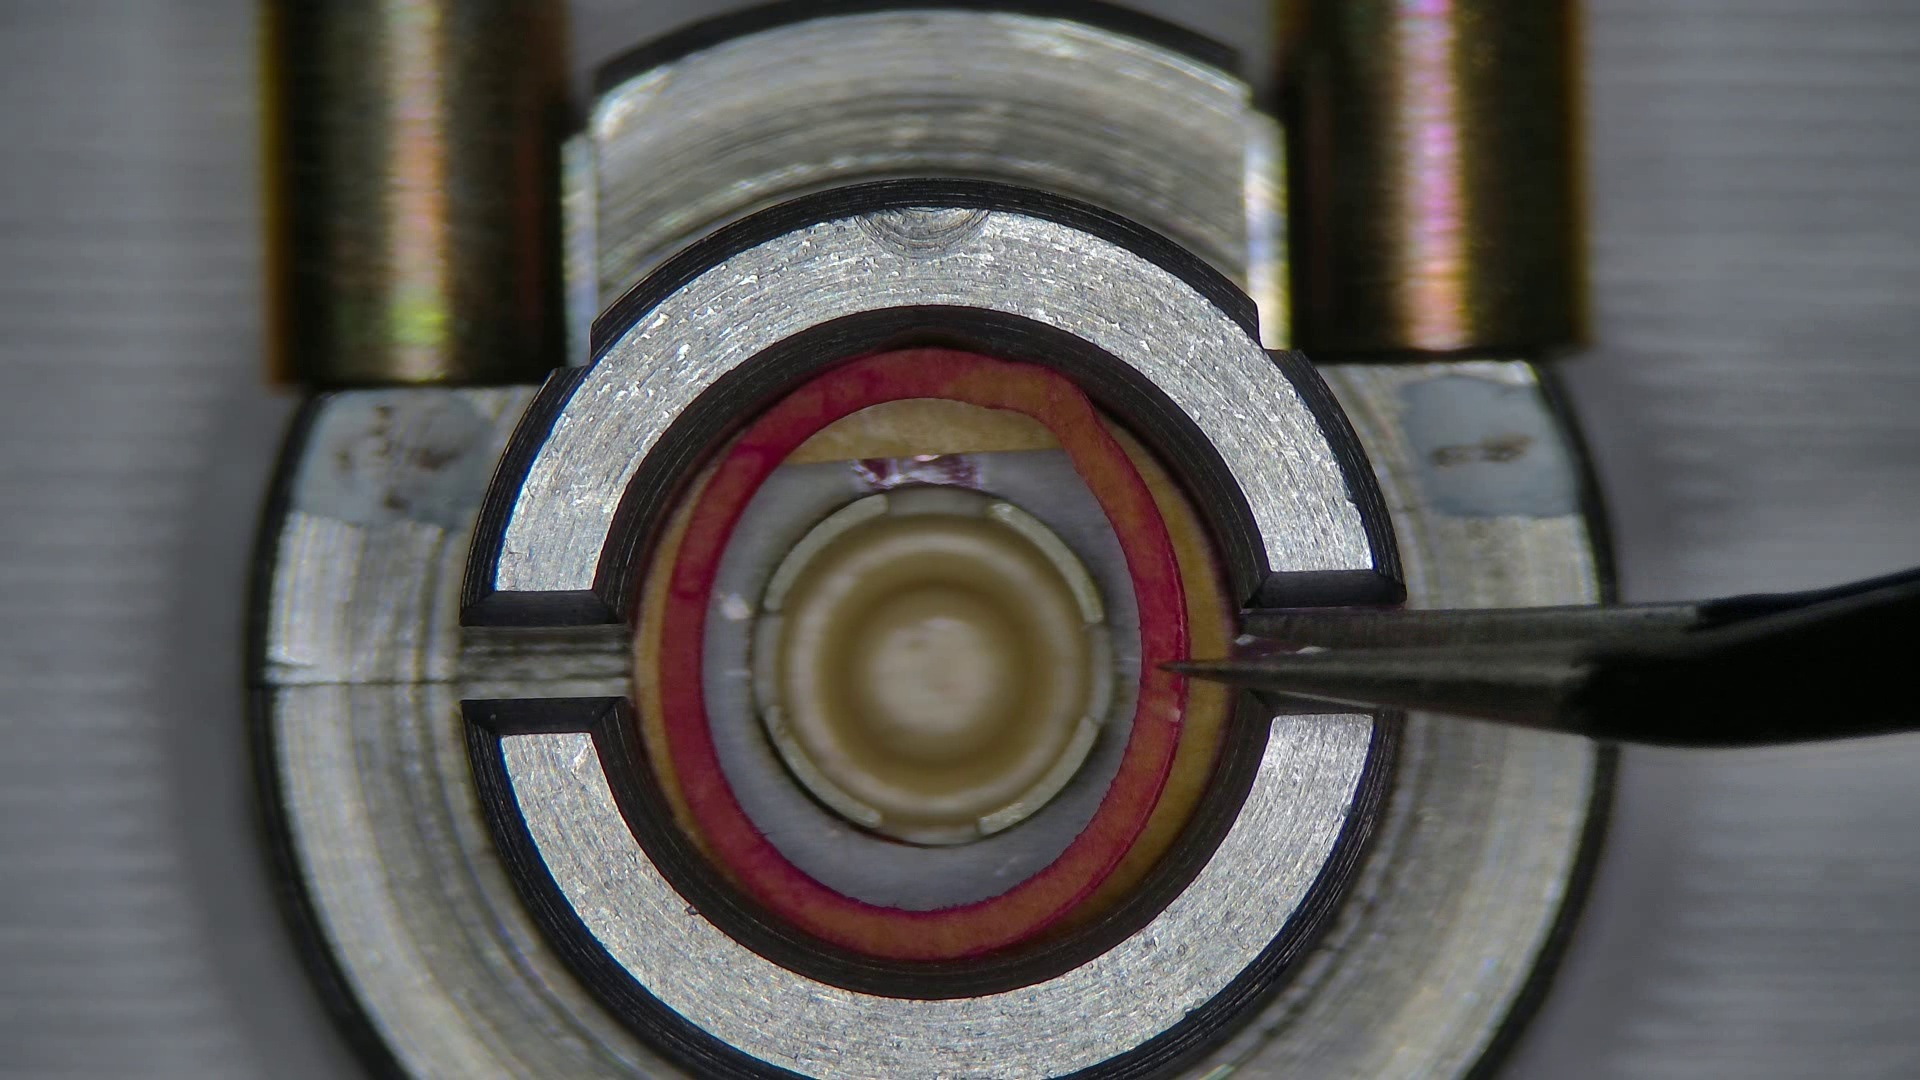GreyOring: (644, 345, 1230, 957), (1203, 752, 1208, 778)
YellowOring: (703, 452, 1139, 909)
redOring: (785, 398, 1063, 462)
